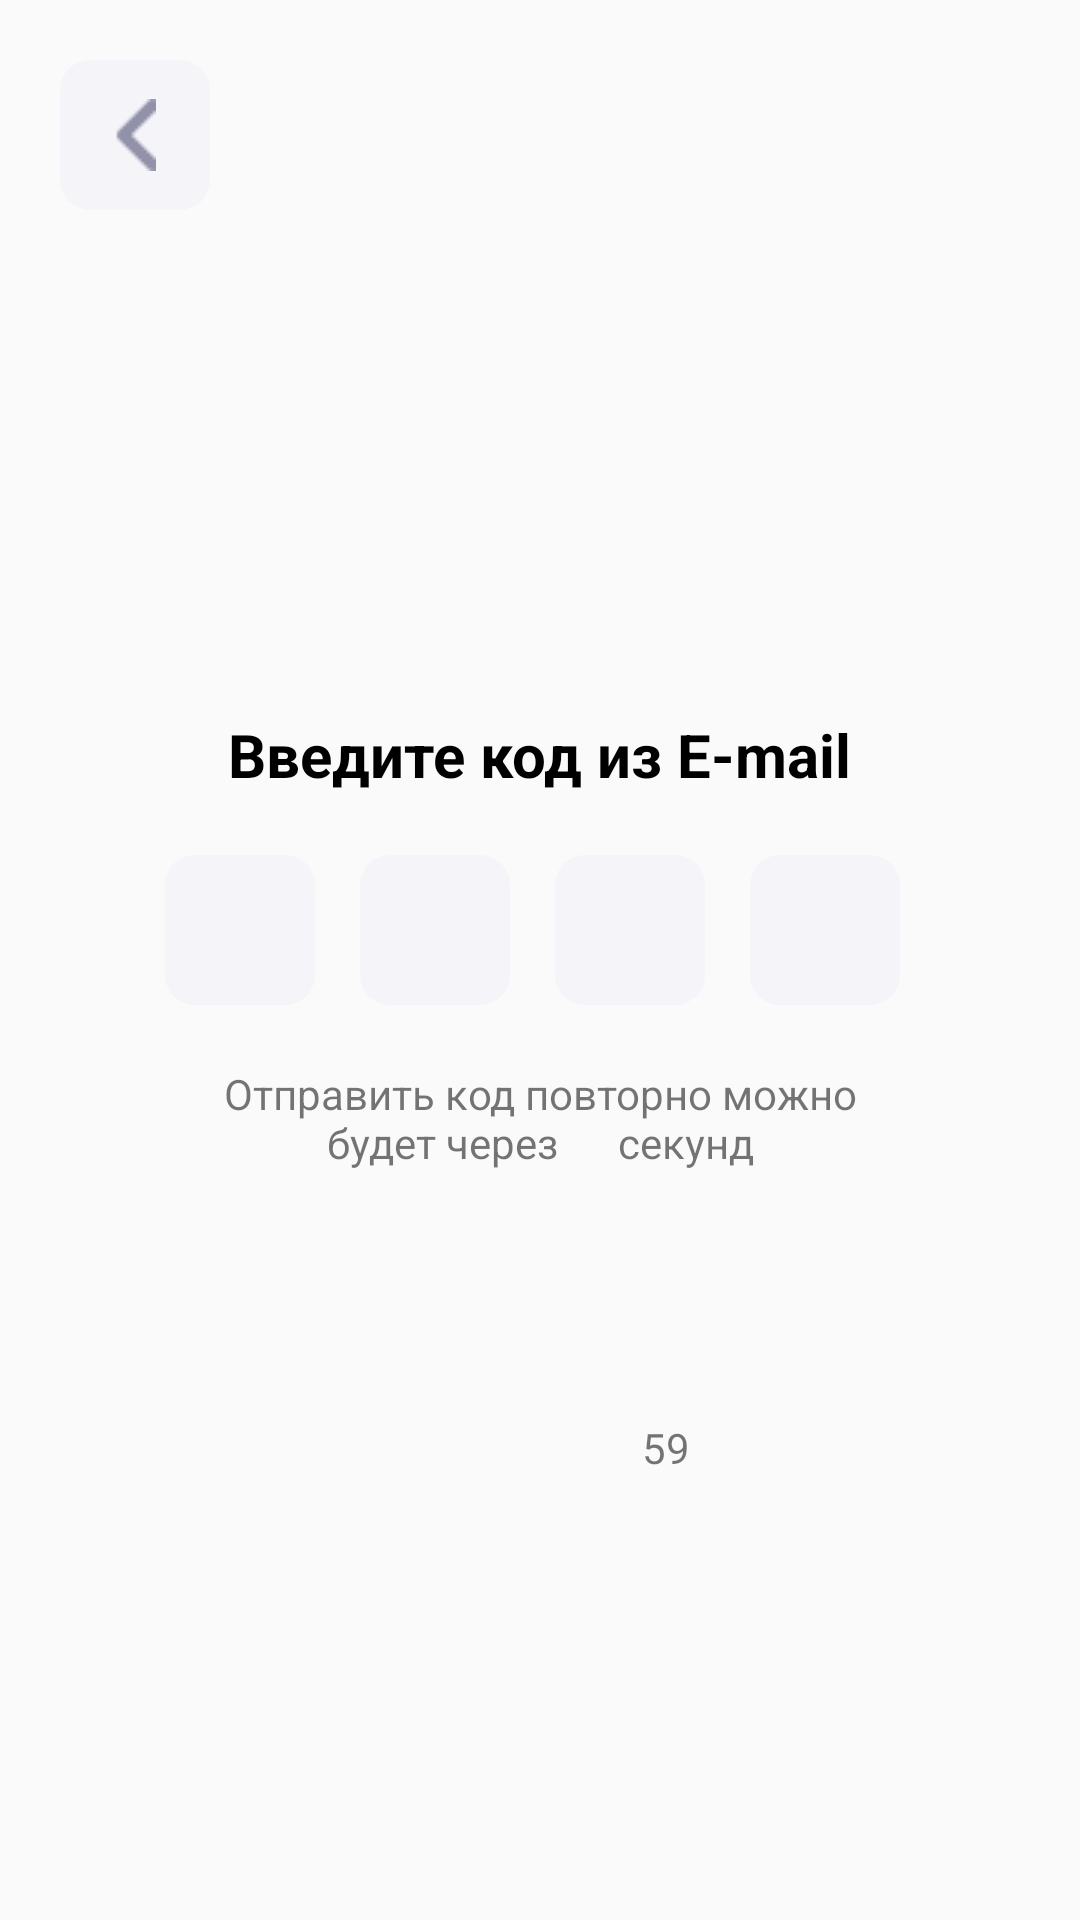

Icons on this 1080×1920 Android screen, each with its box as (x1, y1, x2, y2):
strelka back: (116, 99, 156, 171)
